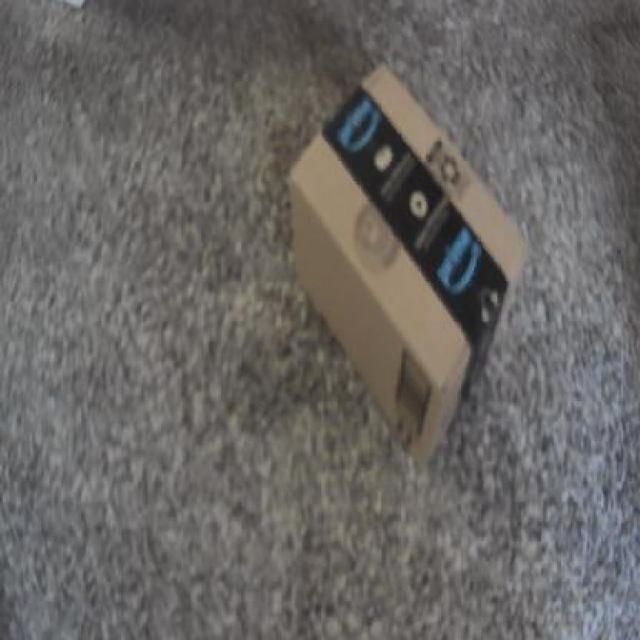box: (286, 65, 531, 463)
